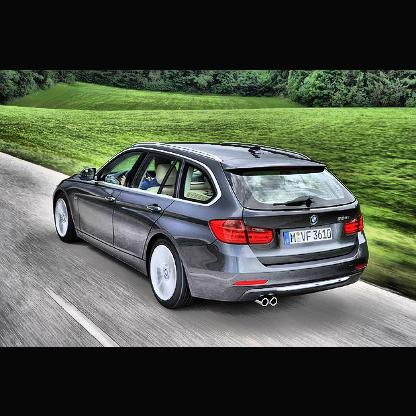BMW 3 Series Wagon 2012: (54, 143, 372, 311)
